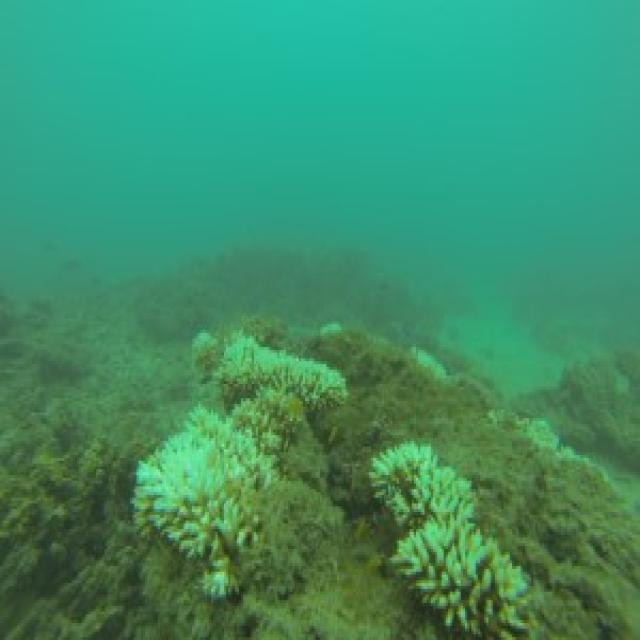Bleached: (138, 408, 274, 595), (391, 502, 526, 635), (214, 331, 347, 405), (372, 442, 472, 527), (234, 388, 304, 473)
